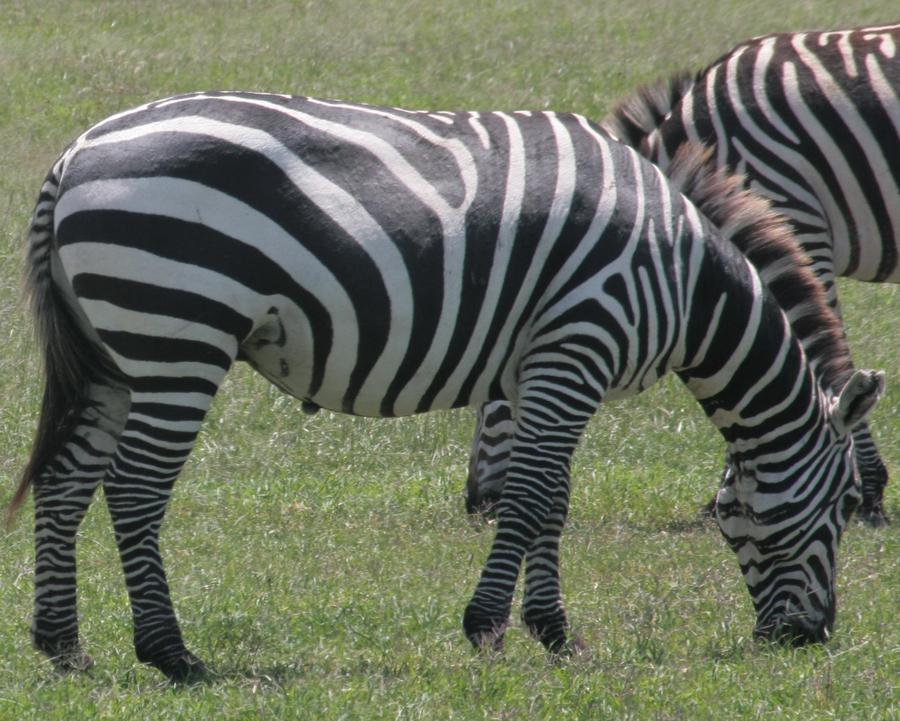zebra_plains: (69, 75, 638, 416)
